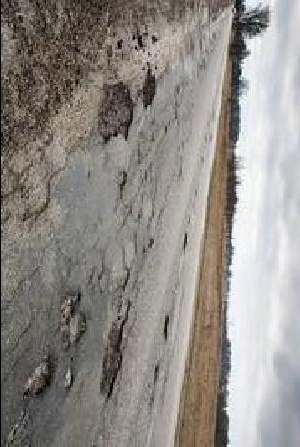pothole: (99, 302, 134, 402), (97, 77, 135, 142), (58, 292, 88, 350), (20, 353, 55, 400), (141, 65, 159, 111), (63, 363, 74, 390)
